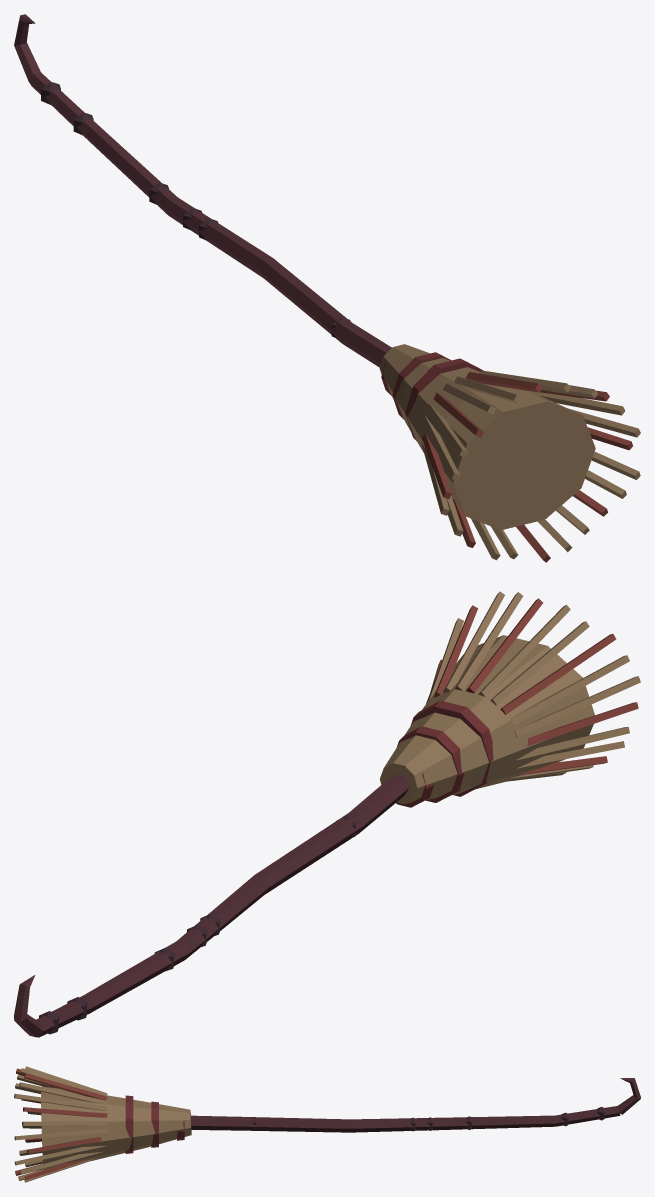
Rendered from matura_zbor.glb.
3 views of the same model, one above another, from view 1: azimuth 30°, elevation 25°; view 2: azimuth 150°, elevation 25°; view 3: azimuth 270°, elevation 25° (orthographic). The views are drawn at different scales.
Parts seen in each view (by area): view 1: Matura; view 2: Matura; view 3: Matura.
Boxes of the visible parts, <box> form: Matura: <box>14,14,640,562</box>; Matura: <box>14,591,640,1037</box>; Matura: <box>14,1066,640,1182</box>.
Size of the model in its own units: 0.5185 by 0.4407 by 2.44.
